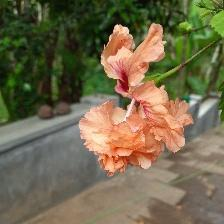hibiscus: (80, 24, 192, 178)
